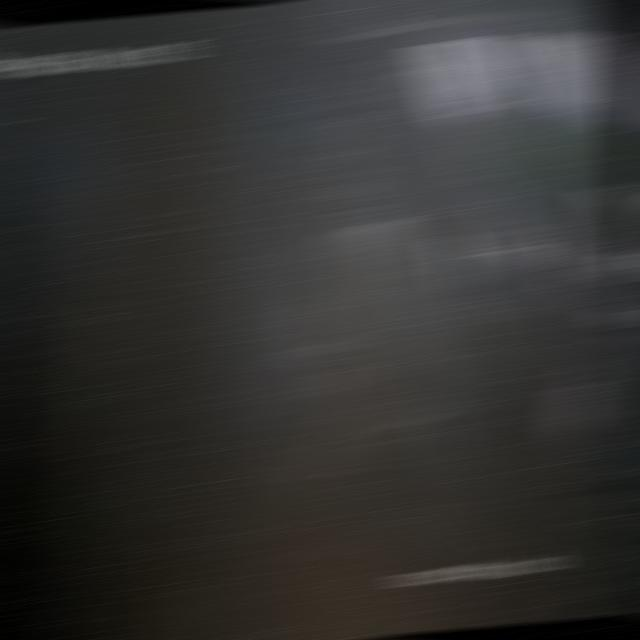cement_mixer_truck: (272, 198, 601, 530)
